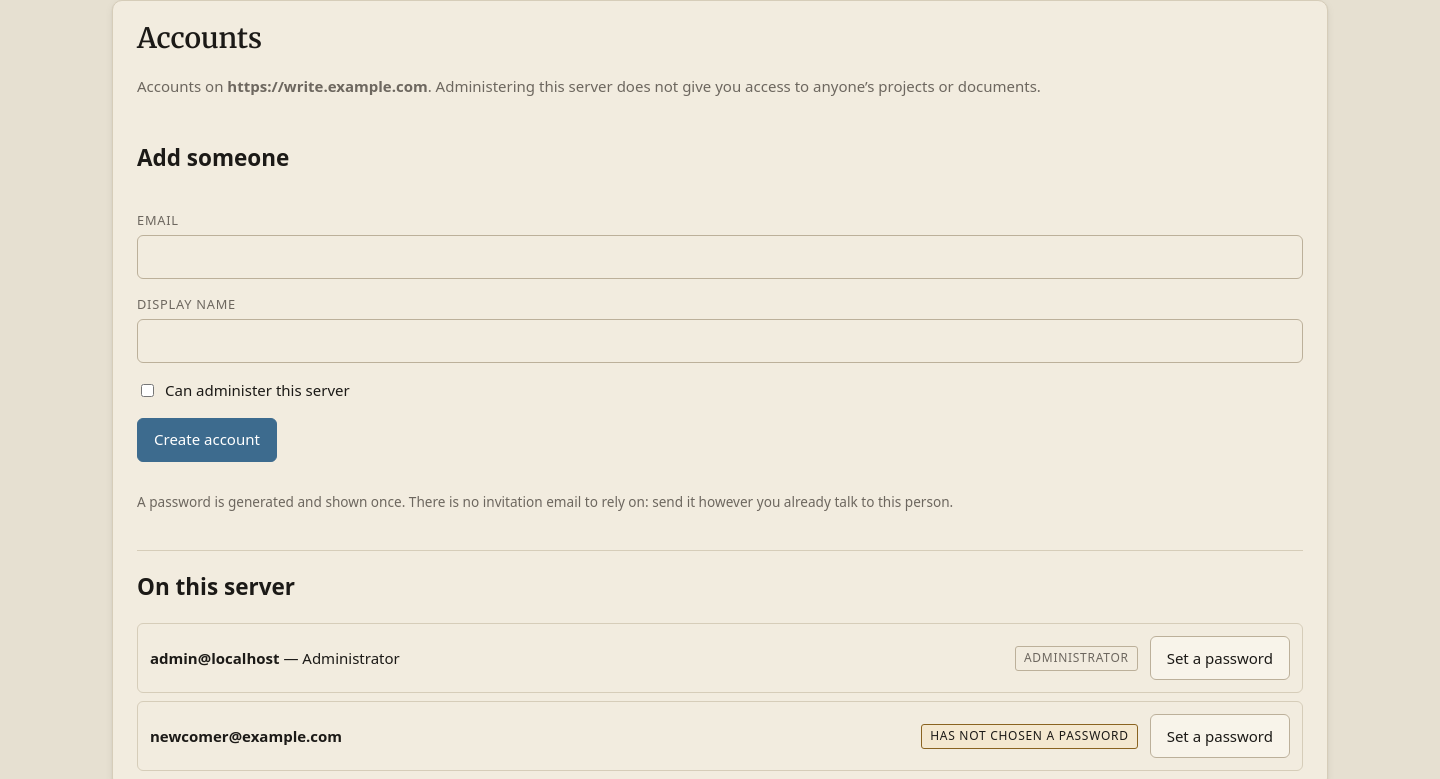
Test case: adding someone › reports a refusal and keeps what was typed
expect the text "newcomer@example.com" is shown: met, box x1=150 y1=726 x2=342 y2=746
In the field labelled "Email": (720, 257) x1=137 y1=235 x2=1303 y2=279, type "taken@example.com"
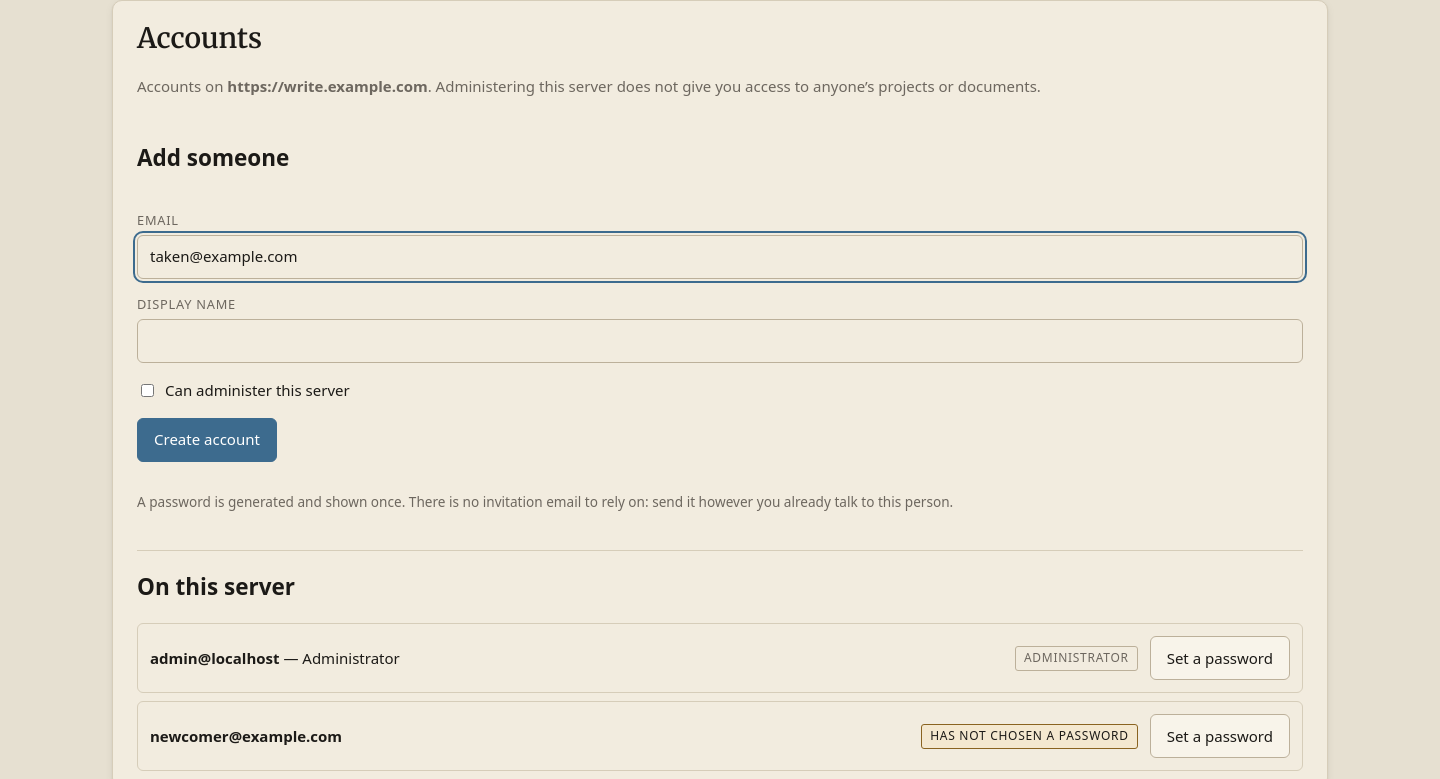
Click the button "Create account": (207, 440) x1=137 y1=418 x2=277 y2=462
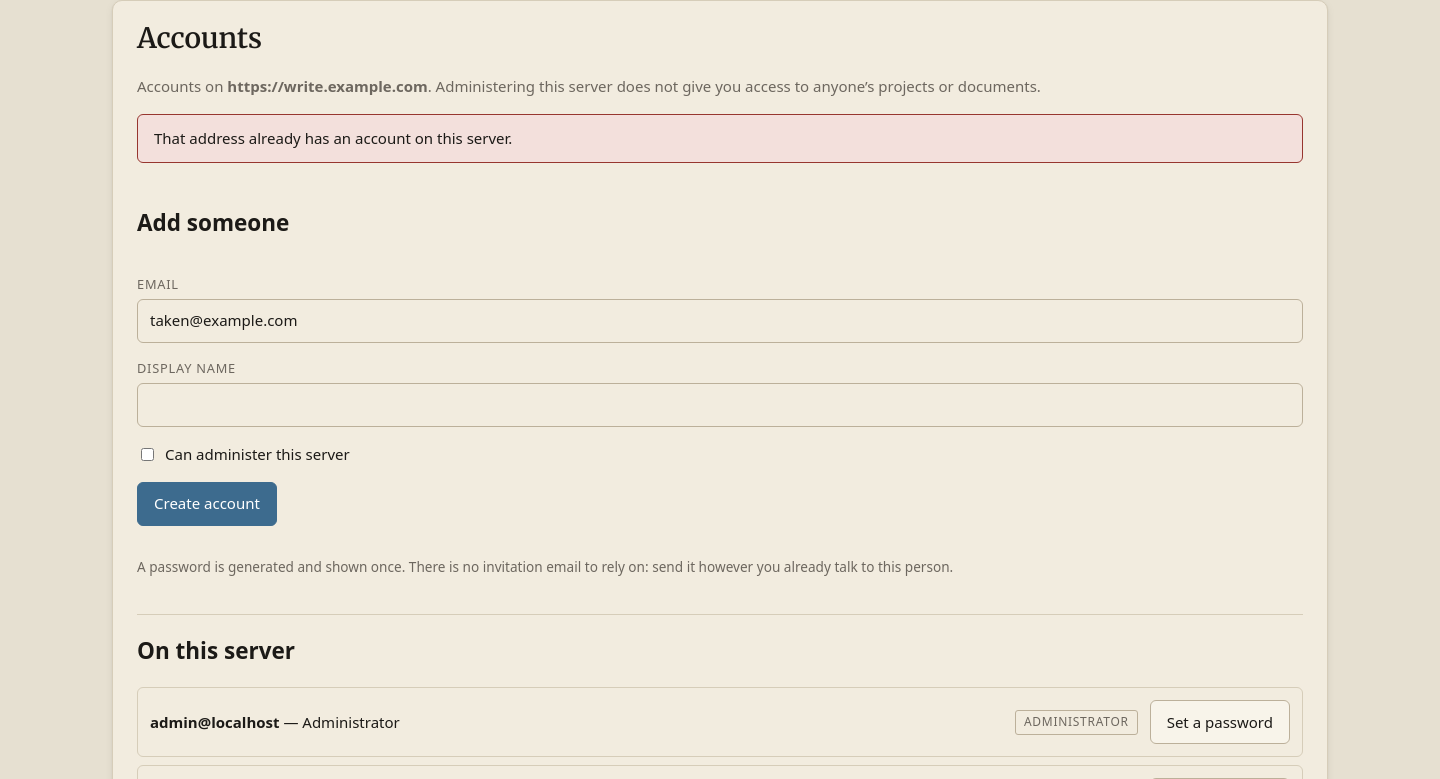
expect the message shows "already has an account": met, box x1=154 y1=128 x2=512 y2=148
